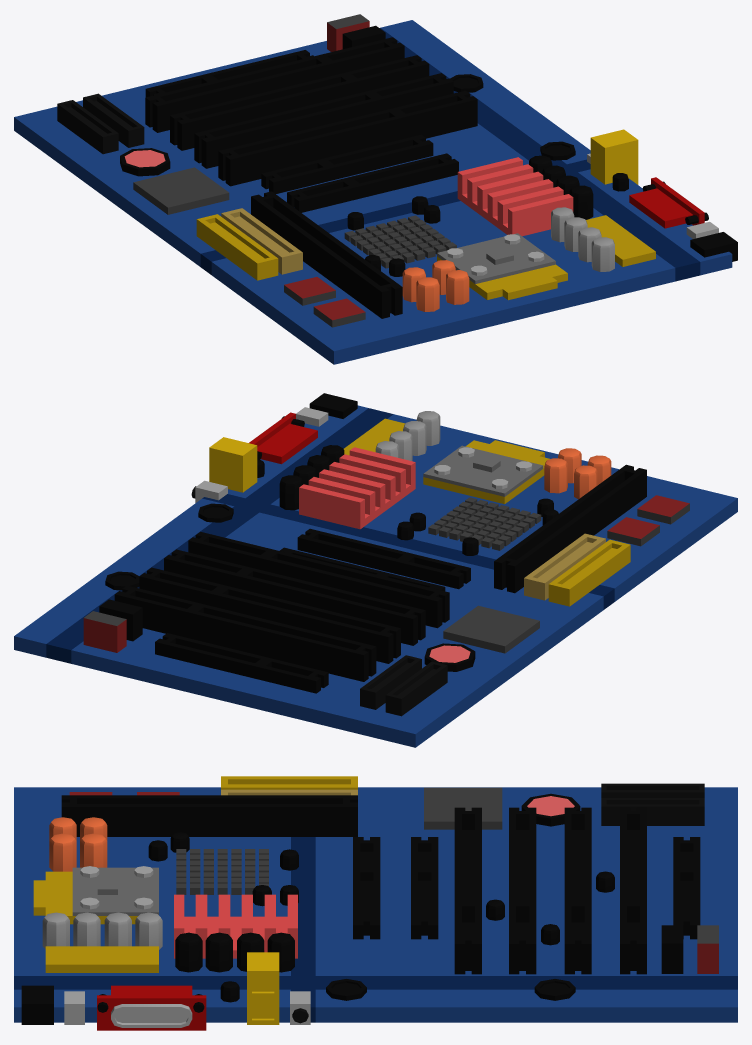
Rendered from circuit_board.glb.
3 renders of one model, top to bottom at view 1: azimuth 30°, elevation 25°; view 2: azimuth 150°, elevation 25°; view 3: azimuth 270°, elevation 25°, orthographic. The views are drawn at different scales.
Visible parts, largest first — view 1: Mesh_Motherboard_01; view 2: Mesh_Motherboard_01; view 3: Mesh_Motherboard_01.
Boxes of the visible parts, <box> form: Mesh_Motherboard_01: <box>14,14,737,364</box>; Mesh_Motherboard_01: <box>14,393,737,747</box>; Mesh_Motherboard_01: <box>14,776,737,1030</box>.
Size of the model in its own units: 32.36 by 4.3 by 43.44.
Materials: 1 (1 with a texture image).
